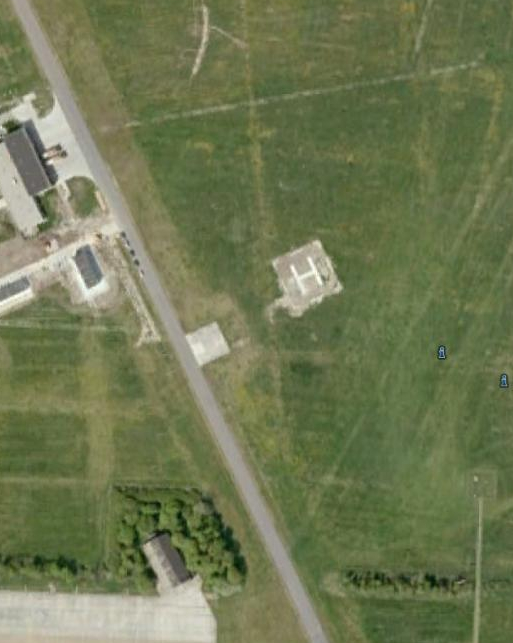heliport: (284, 257, 326, 301)
